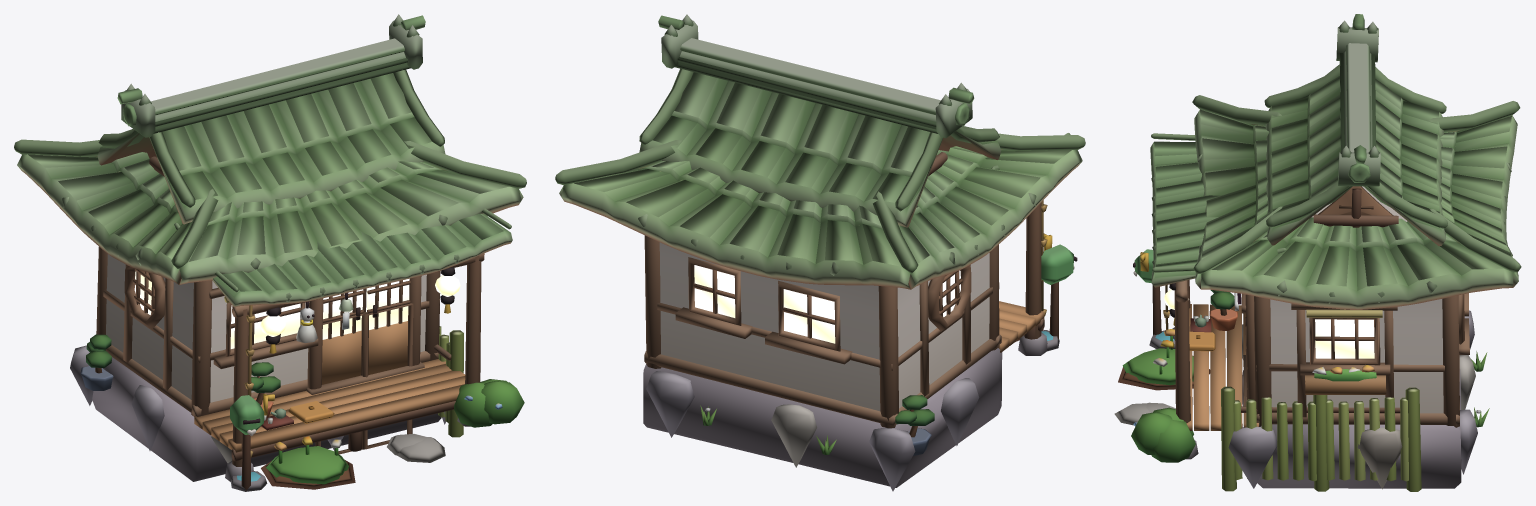
File: home-2-v5.glb
3 renders of one model, left to right at view 1: azimuth 30°, elevation 25°; view 2: azimuth 150°, elevation 25°; view 3: azimuth 270°, elevation 25°, orthographic. The views are drawn at different scales.
Parts seen in each view (by area): view 1: home, window_glow; view 2: home, window_glow; view 3: home, window_glow.
Boxes of the visible parts, box(x1,y1,x2,y2) form: home: box(14, 14, 526, 491); window_glow: box(134, 271, 460, 348); home: box(555, 14, 1085, 491); window_glow: box(694, 265, 960, 343); home: box(1114, 14, 1521, 491); window_glow: box(1164, 289, 1374, 358).
Size of the model in its own units: 3.48 by 3.39 by 3.53.
